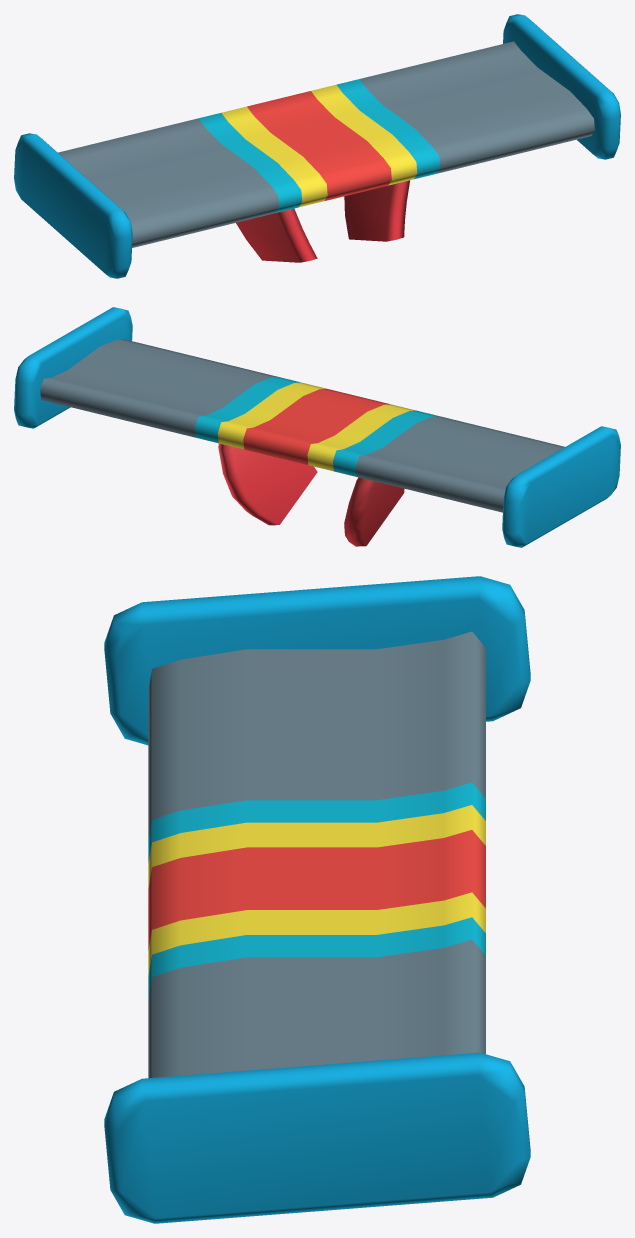
File: Car_09_Spoiler.fbx
The picture shows the model from 3 angles, top to bottom: view 1: azimuth 30°, elevation 25°; view 2: azimuth 150°, elevation 25°; view 3: azimuth 270°, elevation 25°; orthographic projection. The views are drawn at different scales.
Parts seen in each view (by area): view 1: Car_09_Spoiler; view 2: Car_09_Spoiler; view 3: Car_09_Spoiler.
Part boxes in pixels (left/top/right/bottom): Car_09_Spoiler: left=14, top=14, right=620, bottom=278; Car_09_Spoiler: left=14, top=307, right=620, bottom=547; Car_09_Spoiler: left=104, top=576, right=530, bottom=1223.
Size of the model in its own units: 184 by 67.11 by 50.63.
